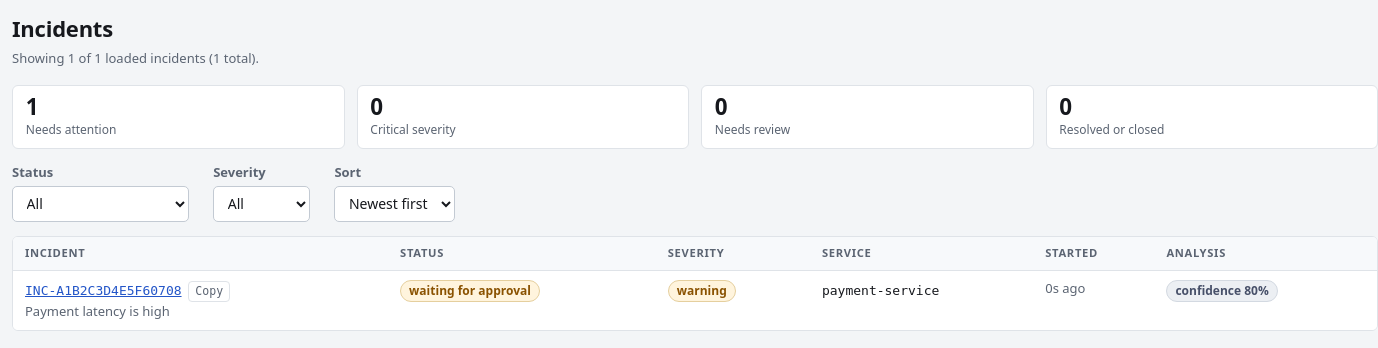
Test: IncidentListPage › filters by severity on the client
expect the text "INC-A1B2C3D4E5F60708" is shown: met, box [25,283,182,298]
Step 1. Select "Critical" in the dropdown labelled "Severity" → (262, 204), box [213,186,310,222]
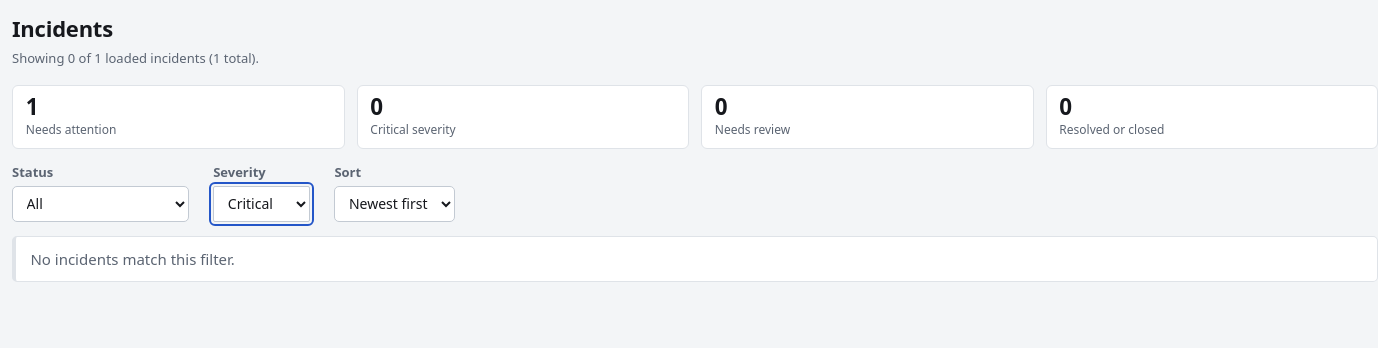
expect the text "No incidents match this filter." is shown: met, box [30,249,235,269]
